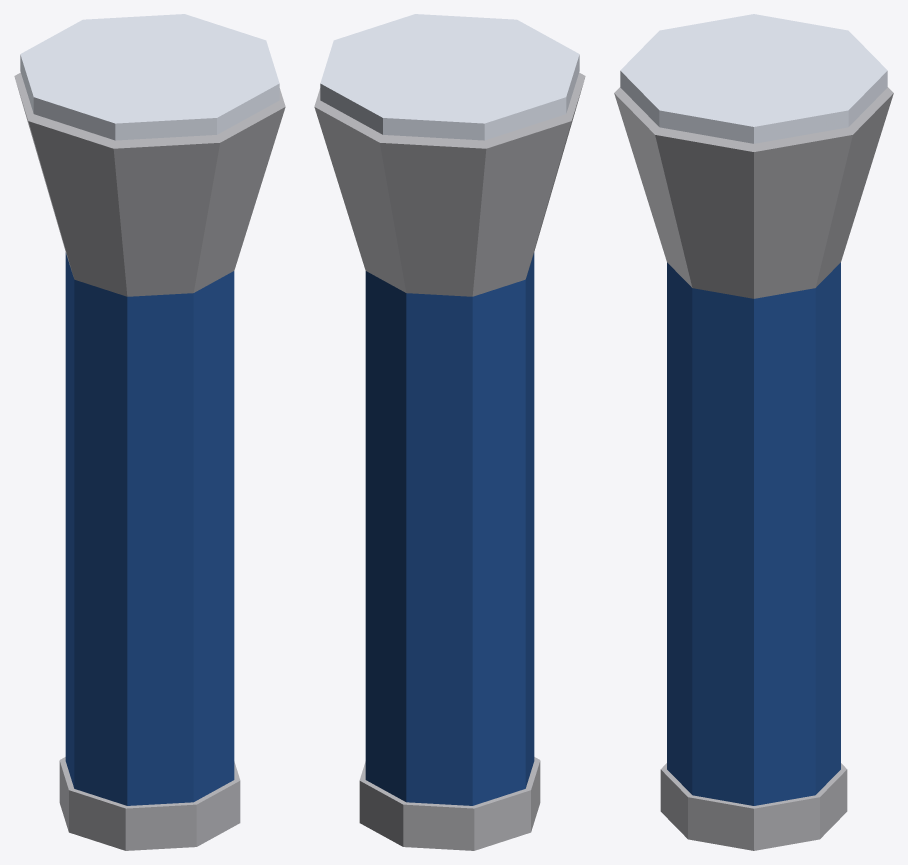
Rendered from low_poly_flashlight.glb.
The picture shows the model from 3 angles, left to right: view 1: azimuth 30°, elevation 25°; view 2: azimuth 150°, elevation 25°; view 3: azimuth 270°, elevation 25°; orthographic projection.
Visible parts, largest first — view 1: flashlight_body, flashlight_head, flashlight_lens, flashlight_button_cap; view 2: flashlight_body, flashlight_head, flashlight_lens, flashlight_button_cap; view 3: flashlight_body, flashlight_head, flashlight_lens, flashlight_button_cap.
Part boxes in pixels (x1,y1,x2,y2): flashlight_body: (65,252,234,805); flashlight_head: (14,72,285,296); flashlight_lens: (20,14,279,140); flashlight_button_cap: (59,757,240,850); flashlight_body: (365,252,534,805); flashlight_head: (314,72,585,296); flashlight_lens: (320,14,579,140); flashlight_button_cap: (359,757,540,850); flashlight_body: (667,262,840,805); flashlight_head: (614,87,893,298); flashlight_lens: (620,14,887,143); flashlight_button_cap: (660,763,847,850).
Size of the model in its own units: 0.9 by 2.63 by 0.9.
